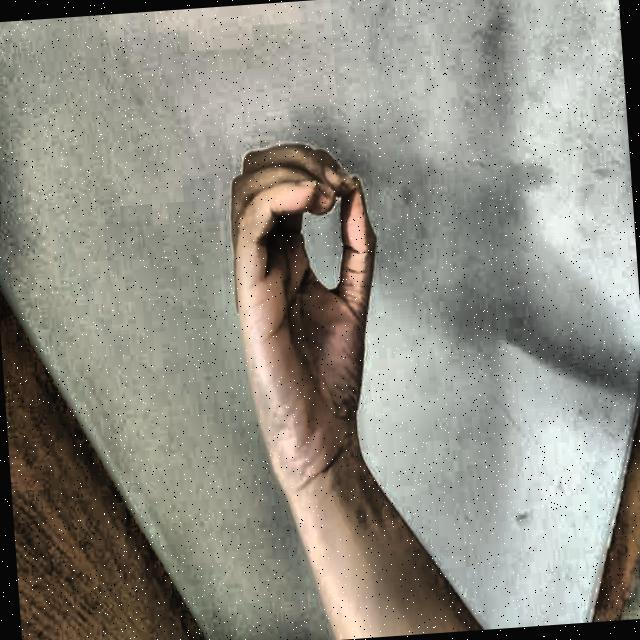O: (203, 108, 399, 494)
